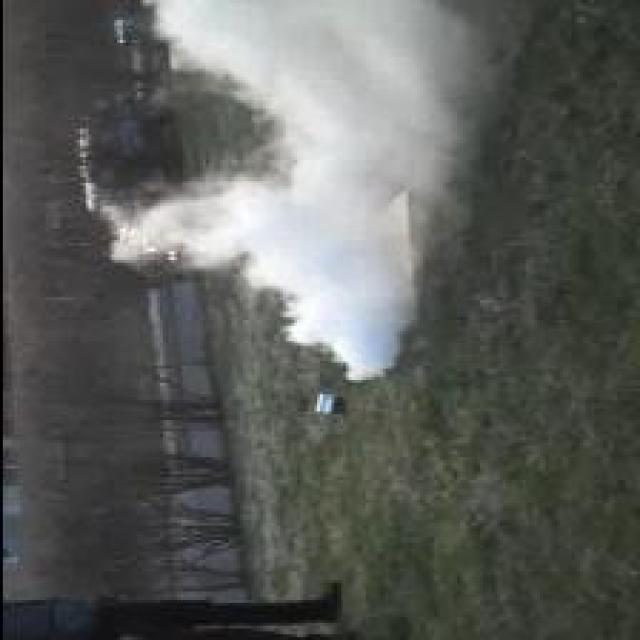Smoke: (92, 0, 476, 386)
